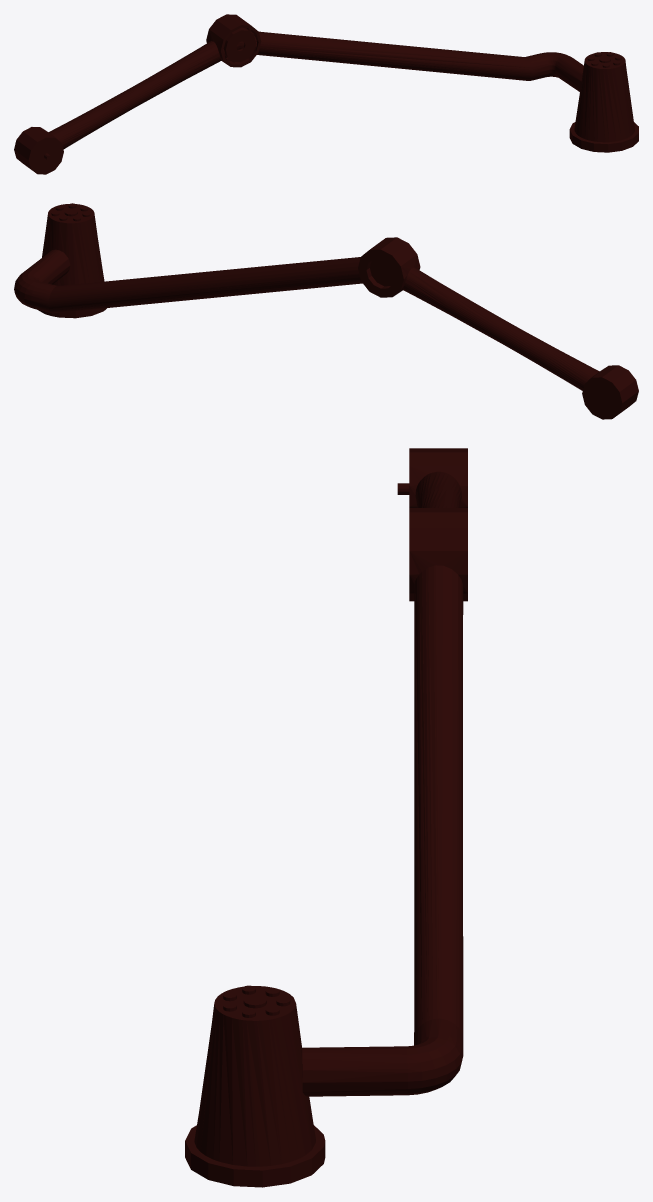
File: Mars6Mars_Rover__Curiosity_1_0__-_28_Wheel_connector_1-2_00.dae
3 views of the same model, one above another, from view 1: azimuth 30°, elevation 25°; view 2: azimuth 150°, elevation 25°; view 3: azimuth 270°, elevation 25° (orthographic). The views are drawn at different scales.
Visible parts, largest first — view 1: tmp_export_Mars6Mars_Rover__Curiosity_1_0__-_28_Wheel_connec; view 2: tmp_export_Mars6Mars_Rover__Curiosity_1_0__-_28_Wheel_connec; view 3: tmp_export_Mars6Mars_Rover__Curiosity_1_0__-_28_Wheel_connec.
Boxes of the visible parts, box(x1,y1,x2,y2) form: tmp_export_Mars6Mars_Rover__Curiosity_1_0__-_28_Wheel_connec: box(14, 14, 638, 174); tmp_export_Mars6Mars_Rover__Curiosity_1_0__-_28_Wheel_connec: box(14, 203, 638, 419); tmp_export_Mars6Mars_Rover__Curiosity_1_0__-_28_Wheel_connec: box(185, 448, 467, 1187).
Size of the model in its own units: 0.3936 by 0.0849 by 0.1088.
